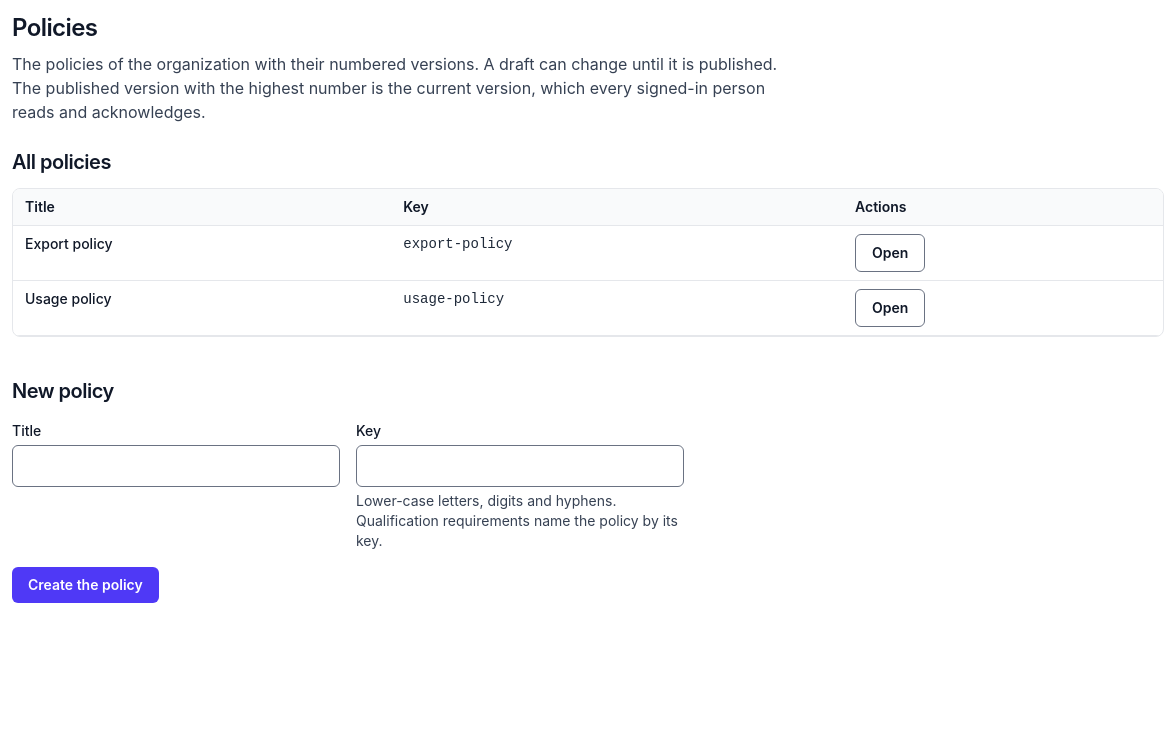
the policy list › lists the policies and opens one into the query
What coordinates should you click on to do the following:
click the button named "Open Usage policy"
I would click on:
 (890, 308)
Its box is [855,289,925,327].
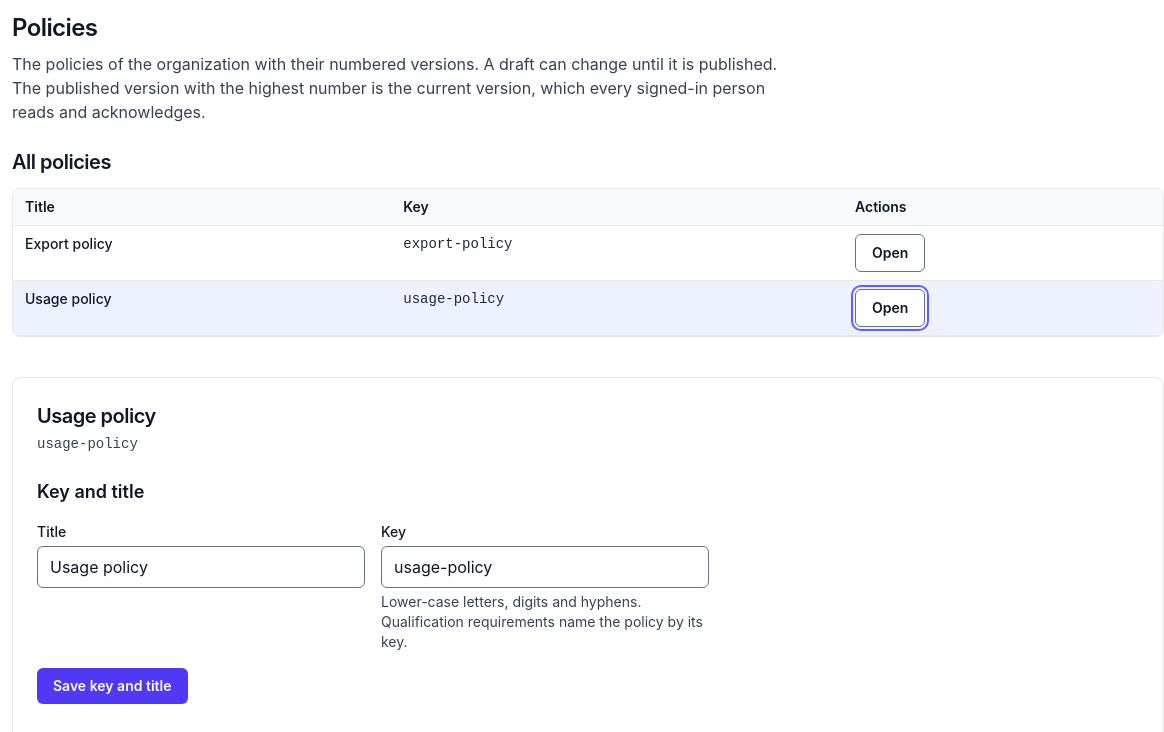
expect the heading "Usage policy" is shown: met, box [37,404,156,428]
